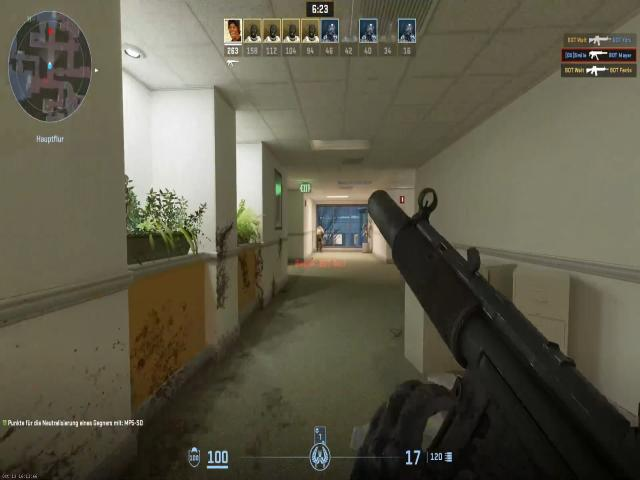T: (316, 225, 322, 244)
